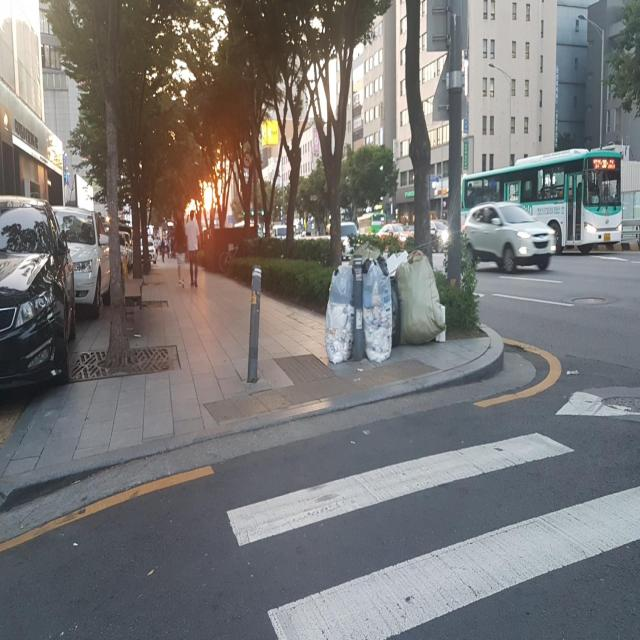횡단보도: (224, 428, 640, 640)
